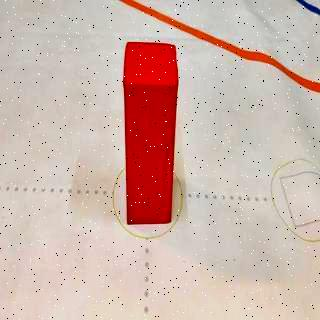redbox: (124, 44, 176, 225)
